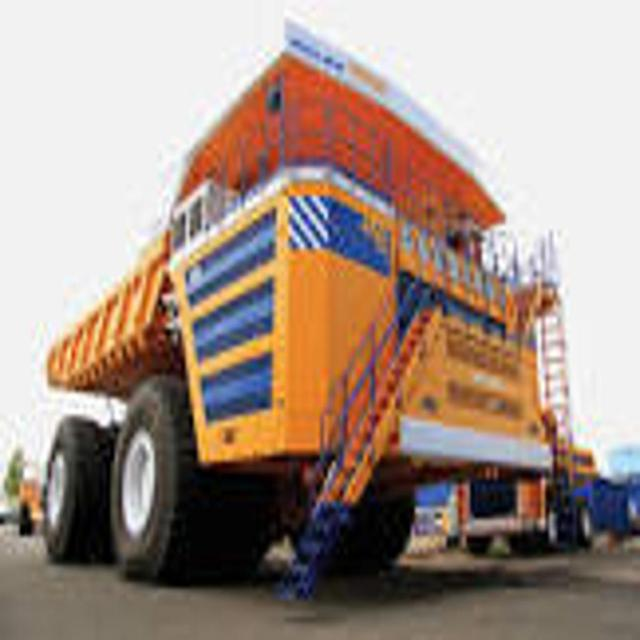dump_truck: (40, 30, 565, 610)
